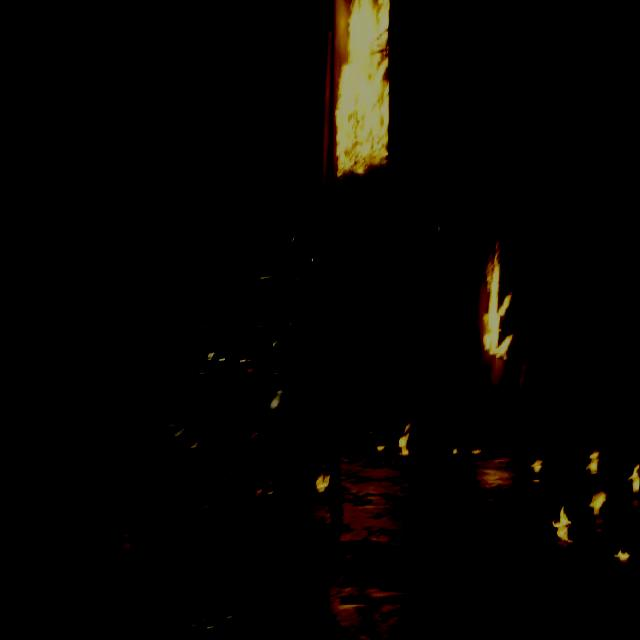Motorbike: (180, 294, 328, 576)
